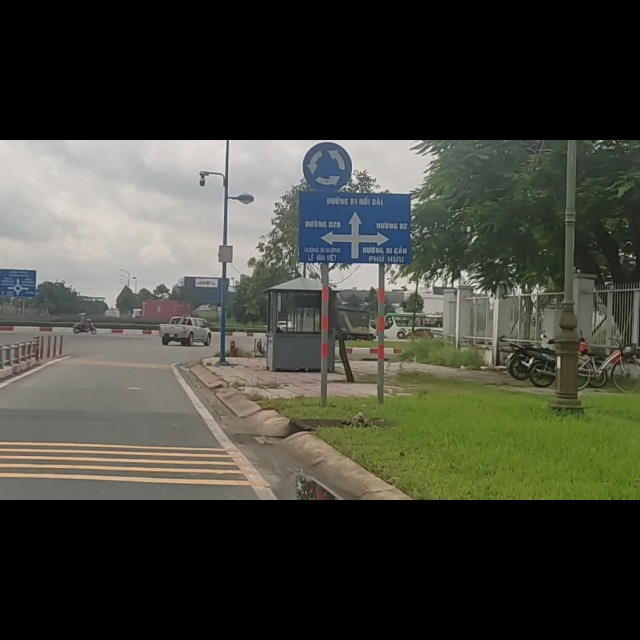bien_hieu_lenh: (299, 1, 357, 92)
